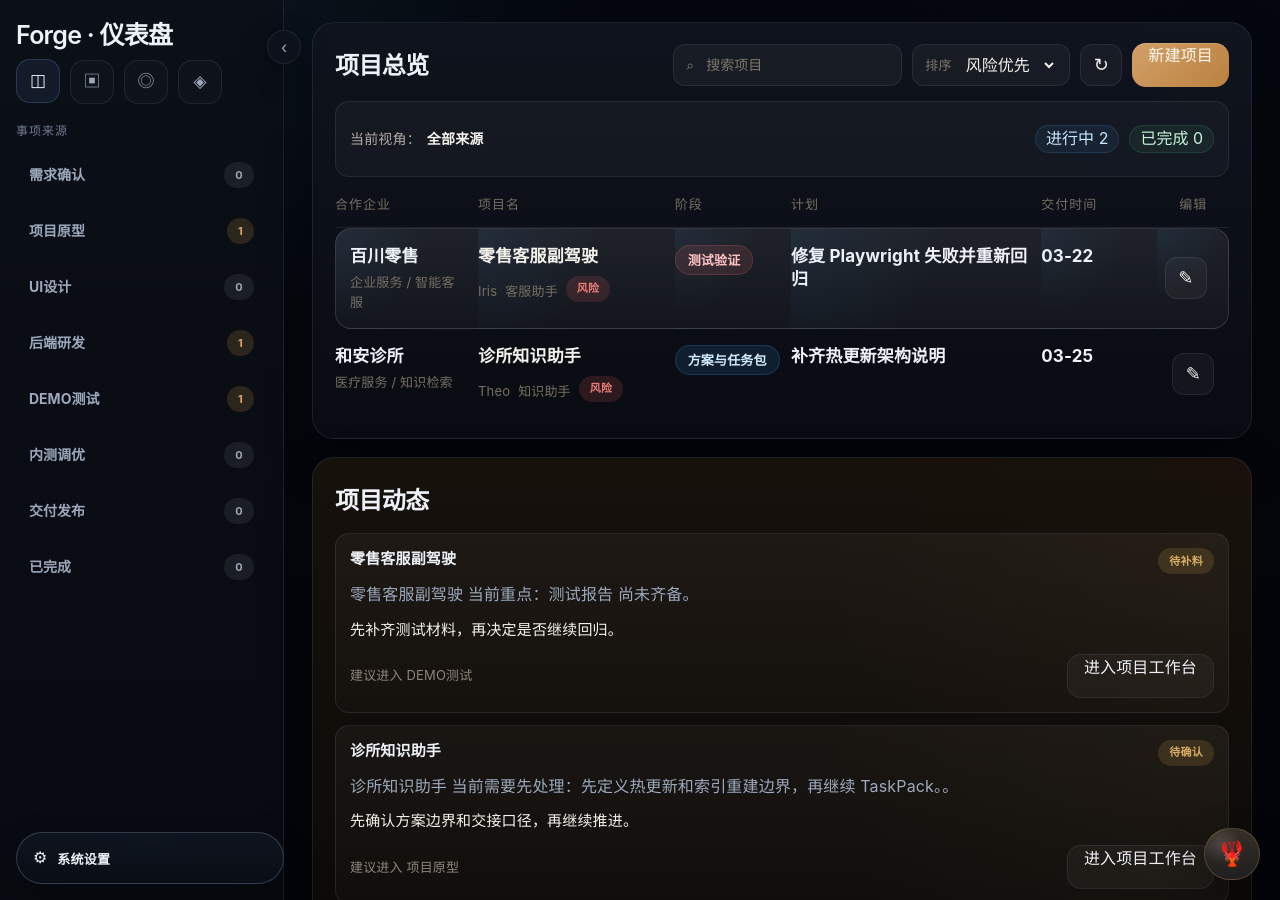
Test: Forge console shell › shows a shared sidebar collapse toggle when navigation is enabled
The image size is (1280, 900).
Click the button named "收起侧边栏": (284, 47) x1=267 y1=30 x2=301 y2=64
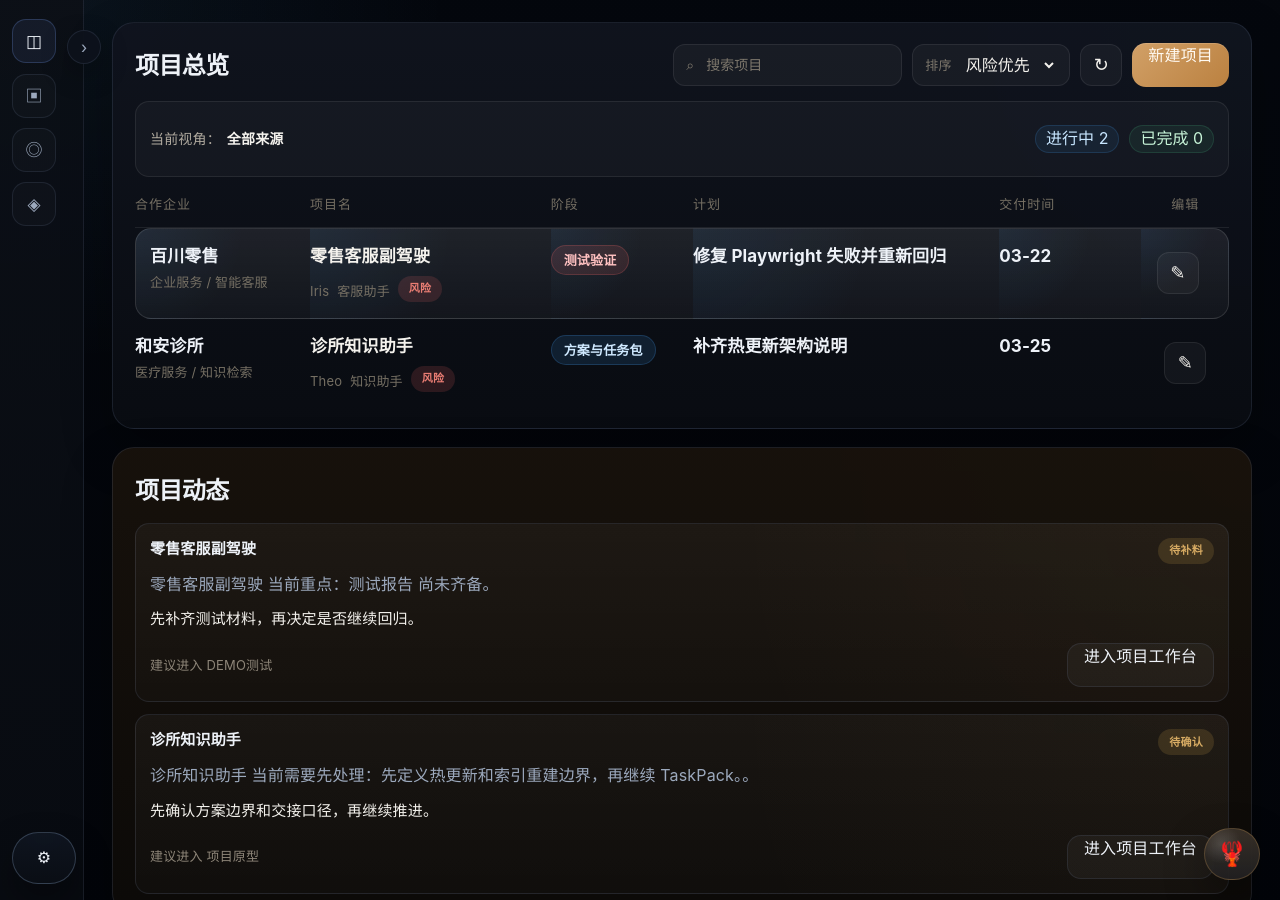
Check: the button named "展开侧边栏" is shown, box x1=67 y1=30 x2=101 y2=64
